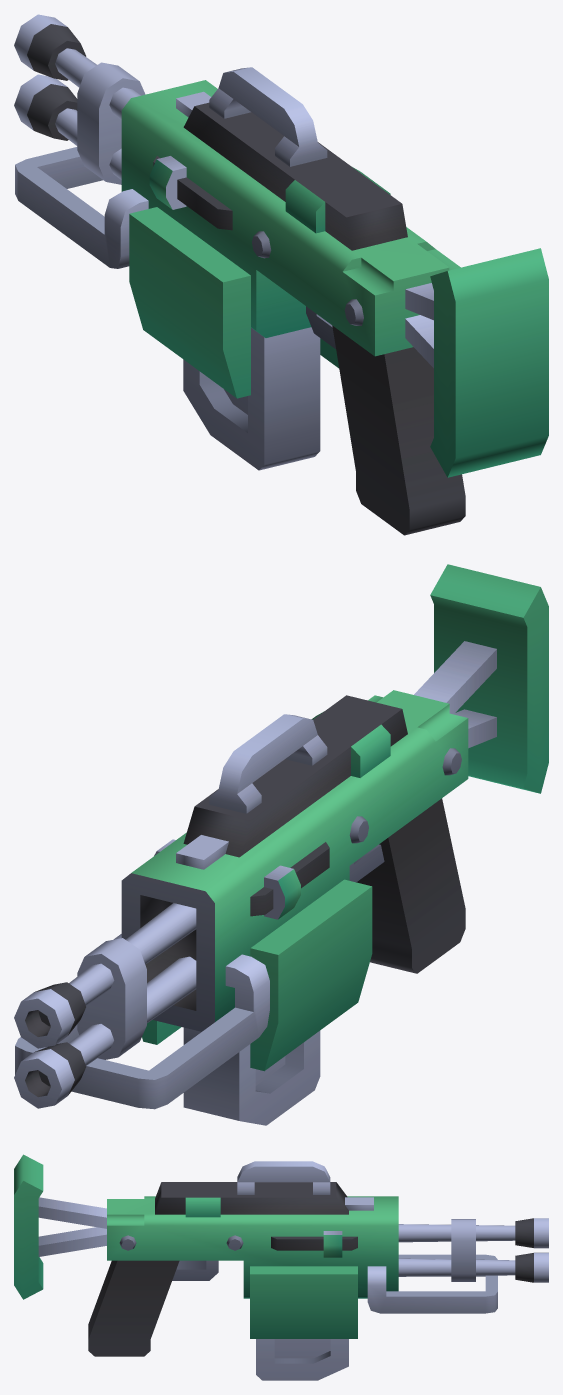
File: blaster-p.glb
3 renders of one model, top to bottom at view 1: azimuth 30°, elevation 25°; view 2: azimuth 150°, elevation 25°; view 3: azimuth 270°, elevation 25°, orthographic. The views are drawn at different scales.
Visible parts, largest first — view 1: blaster-p; view 2: blaster-p; view 3: blaster-p.
Part boxes in pixels (x1,y1,x2,y2): blaster-p: (14, 14, 548, 535); blaster-p: (14, 564, 548, 1125); blaster-p: (14, 1154, 548, 1380).
Size of the model in its own units: 0.16 by 0.3709 by 0.8621.
1 material, 1 textured.
